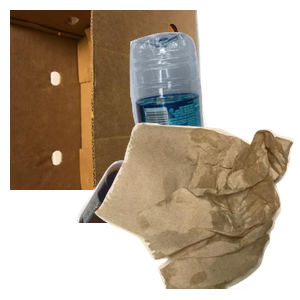cardboard: (10, 10, 211, 190)
glass: (74, 120, 244, 300)
plastic: (127, 29, 300, 209)
trash: (92, 120, 300, 300)
